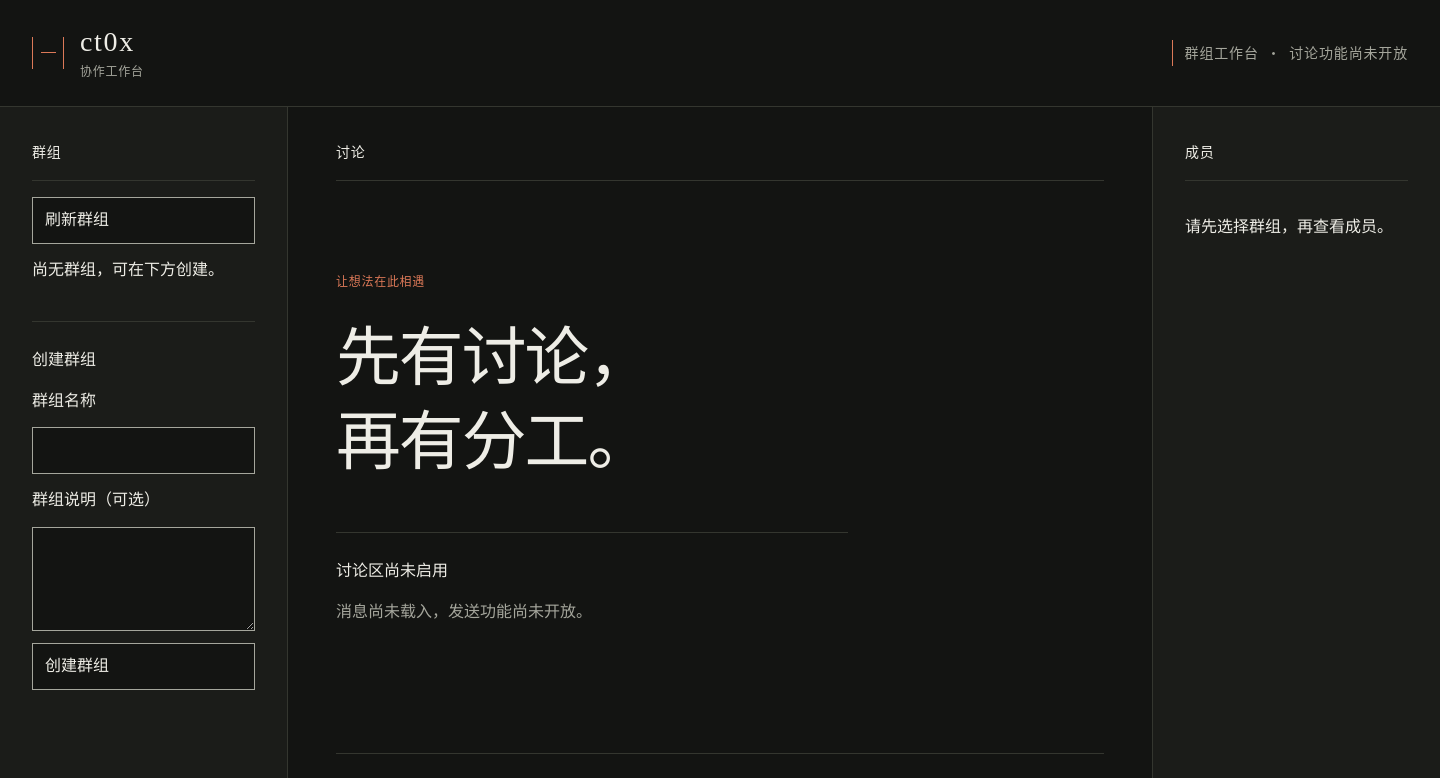
workspace groups › allows correction after definitive validation rejection HTTP 400 with a new key
The width and height of the screenshot is (1440, 778).
Expected: the text "尚无群组，可在下方创建。" is shown, [32, 261, 224, 278]
Type "调研" into the field labelled "群组名称" at {"x": 144, "y": 451}, box [32, 427, 255, 474]
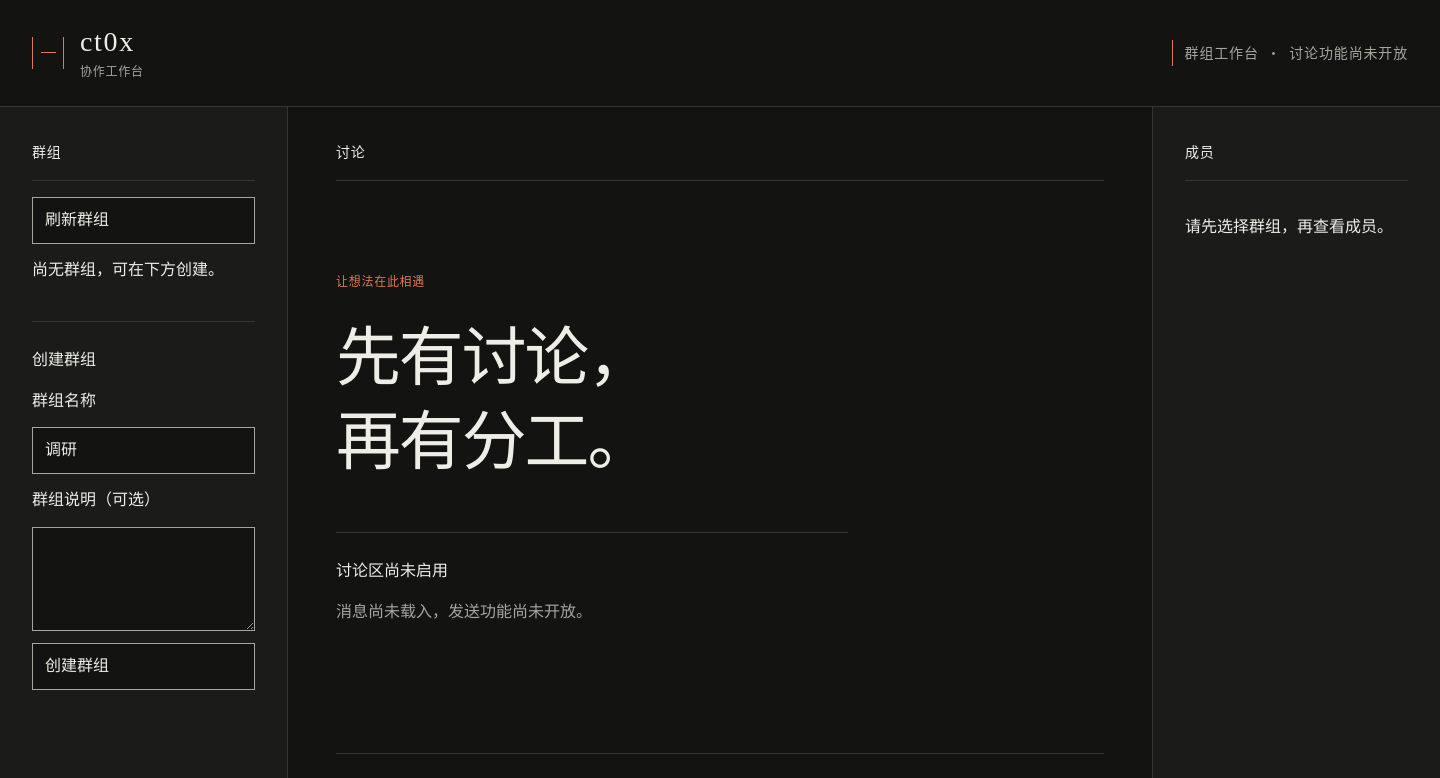
Submit the form "创建群组", box [32, 321, 255, 690]
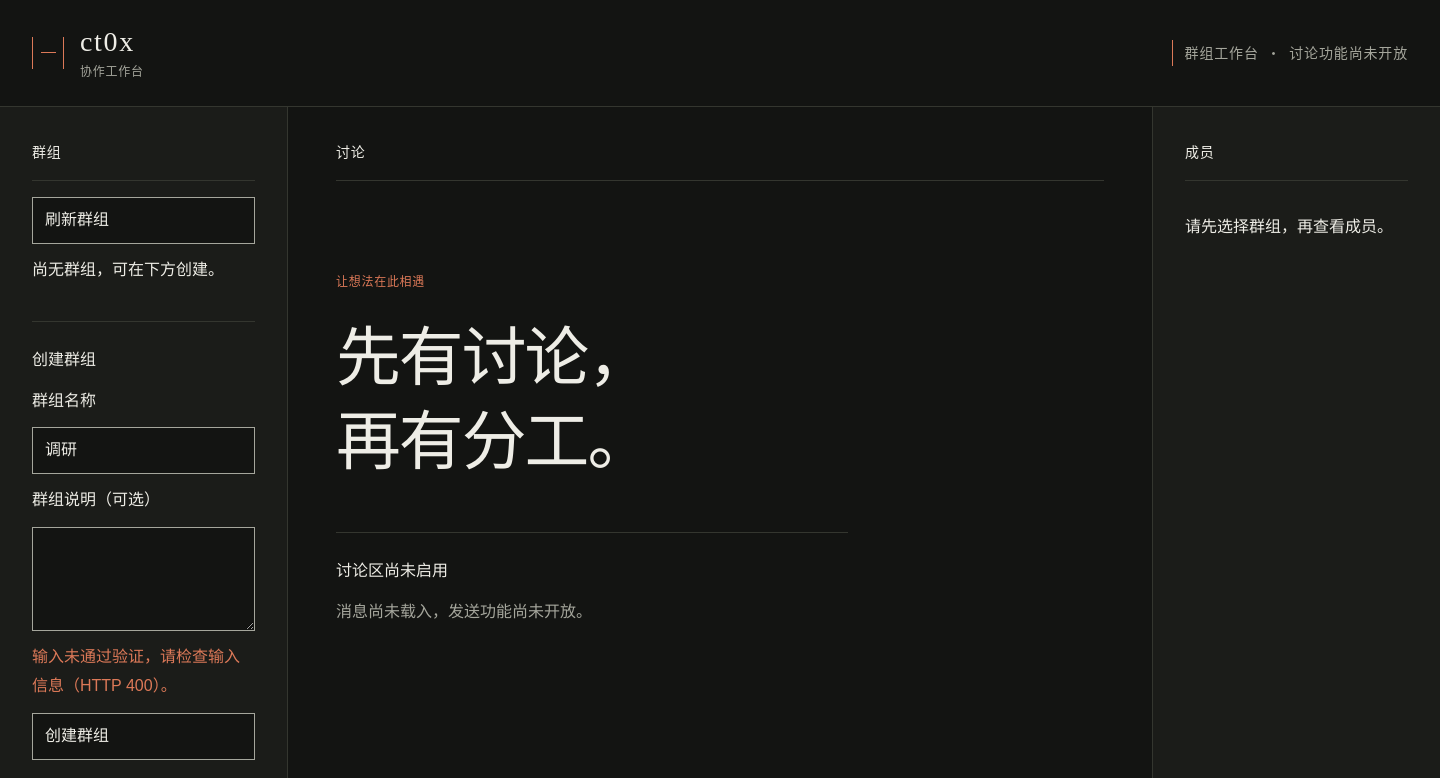
Expected: the message shows "400", [32, 648, 240, 694]
Replace the text in the field labelled "群组名称" with "写作" at {"x": 144, "y": 451}, box [32, 427, 255, 474]
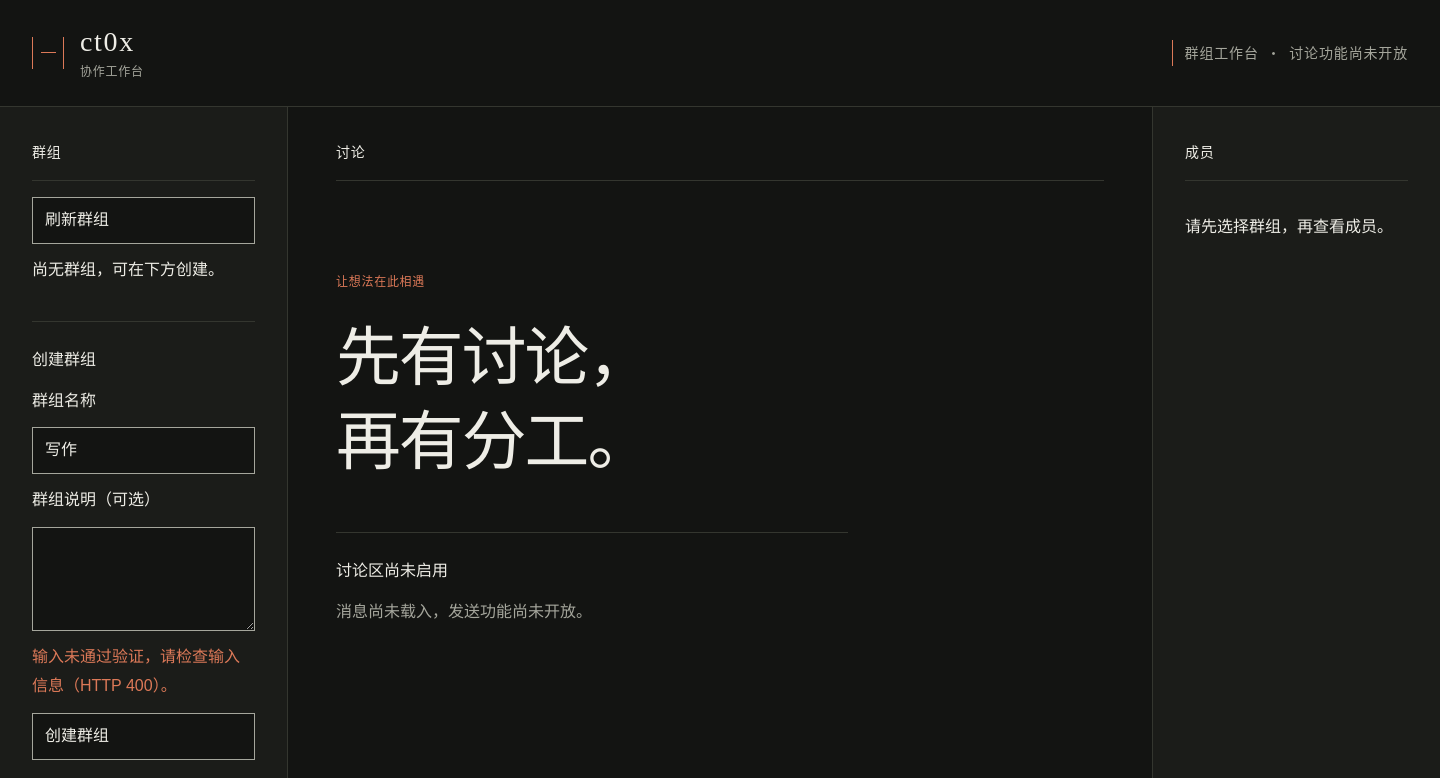
Submit the form "创建群组", box [32, 321, 255, 760]
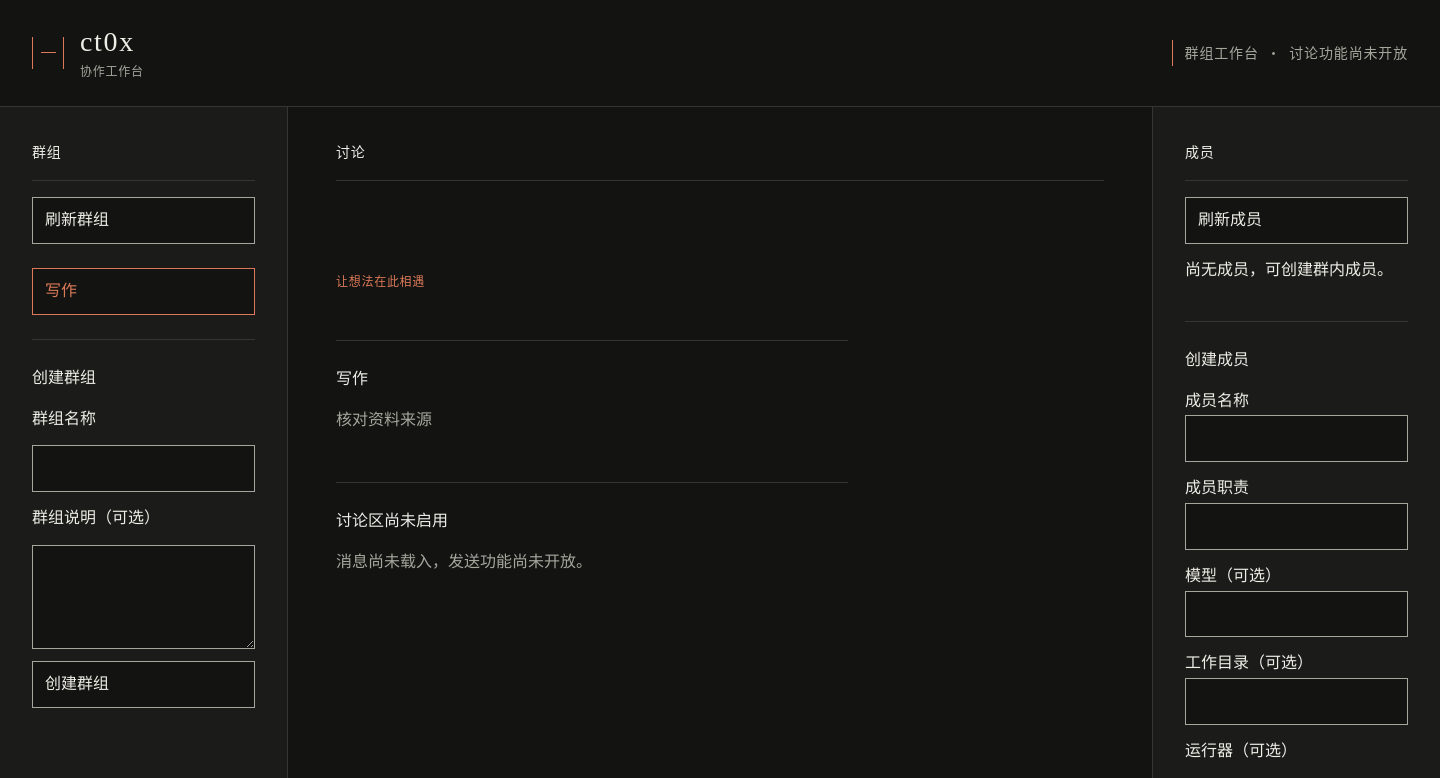
Expected: the button "写作" is shown, [32, 268, 255, 315]
